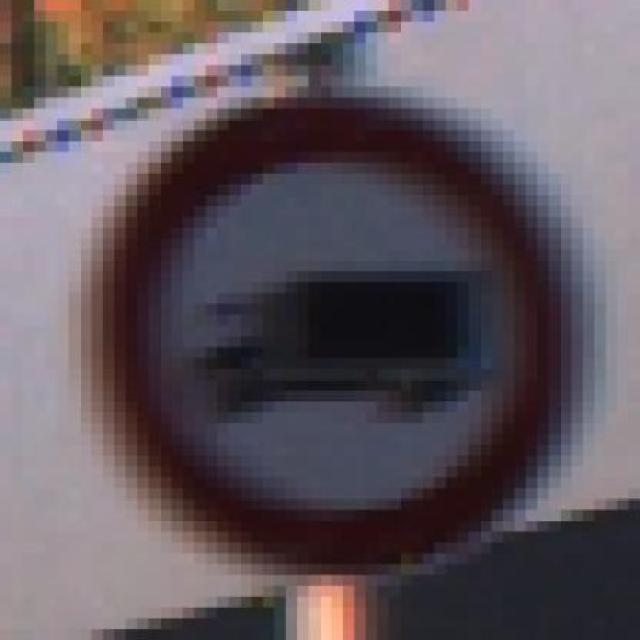Truck traffic is prohibited: (34, 62, 617, 593)
